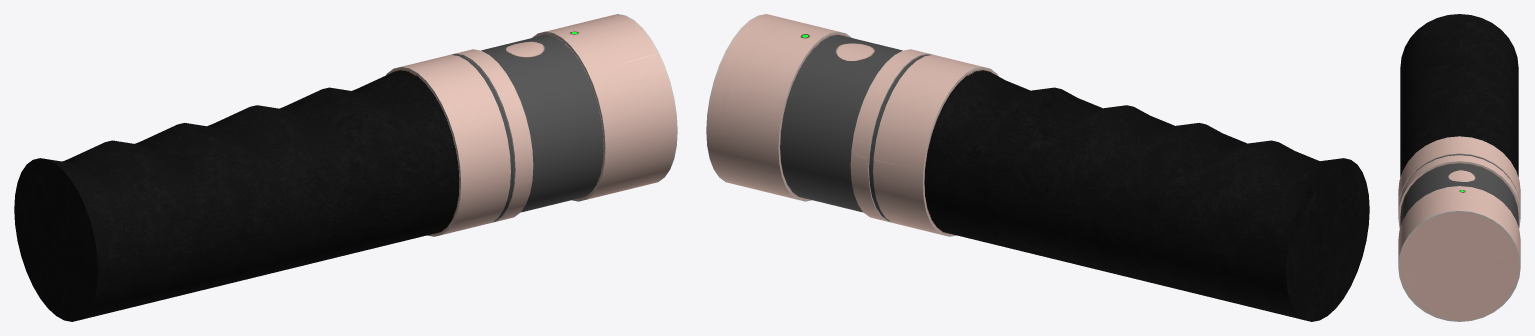
File: grip_6_c_c.glb
3 renders of one model, left to right at view 1: azimuth 30°, elevation 25°; view 2: azimuth 150°, elevation 25°; view 3: azimuth 270°, elevation 25°, orthographic. The views are drawn at different scales.
Parts seen in each view (by area): view 1: grip_6_c_c_lod0; view 2: grip_6_c_c_lod0; view 3: grip_6_c_c_lod0.
Boxes of the visible parts, box(x1,y1,x2,y2) form: grip_6_c_c_lod0: box(14, 14, 677, 321); grip_6_c_c_lod0: box(706, 14, 1369, 321); grip_6_c_c_lod0: box(1398, 14, 1520, 321).
Size of what is drawn, in the model's own units: 0.1055 by 0.0275 by 0.0275.
1 material, 1 textured.
